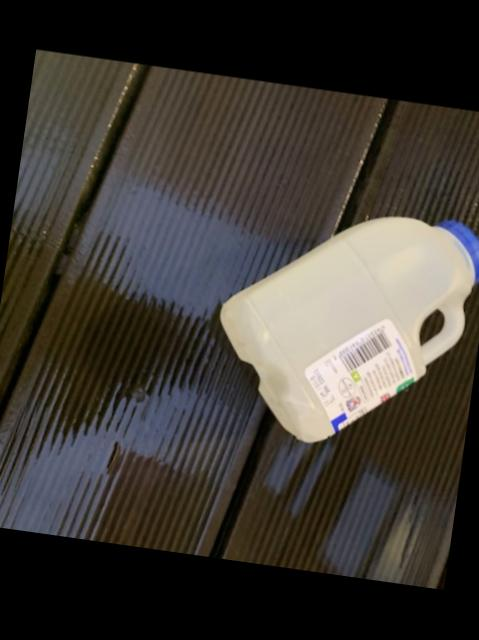plastic: (221, 218, 479, 444)
